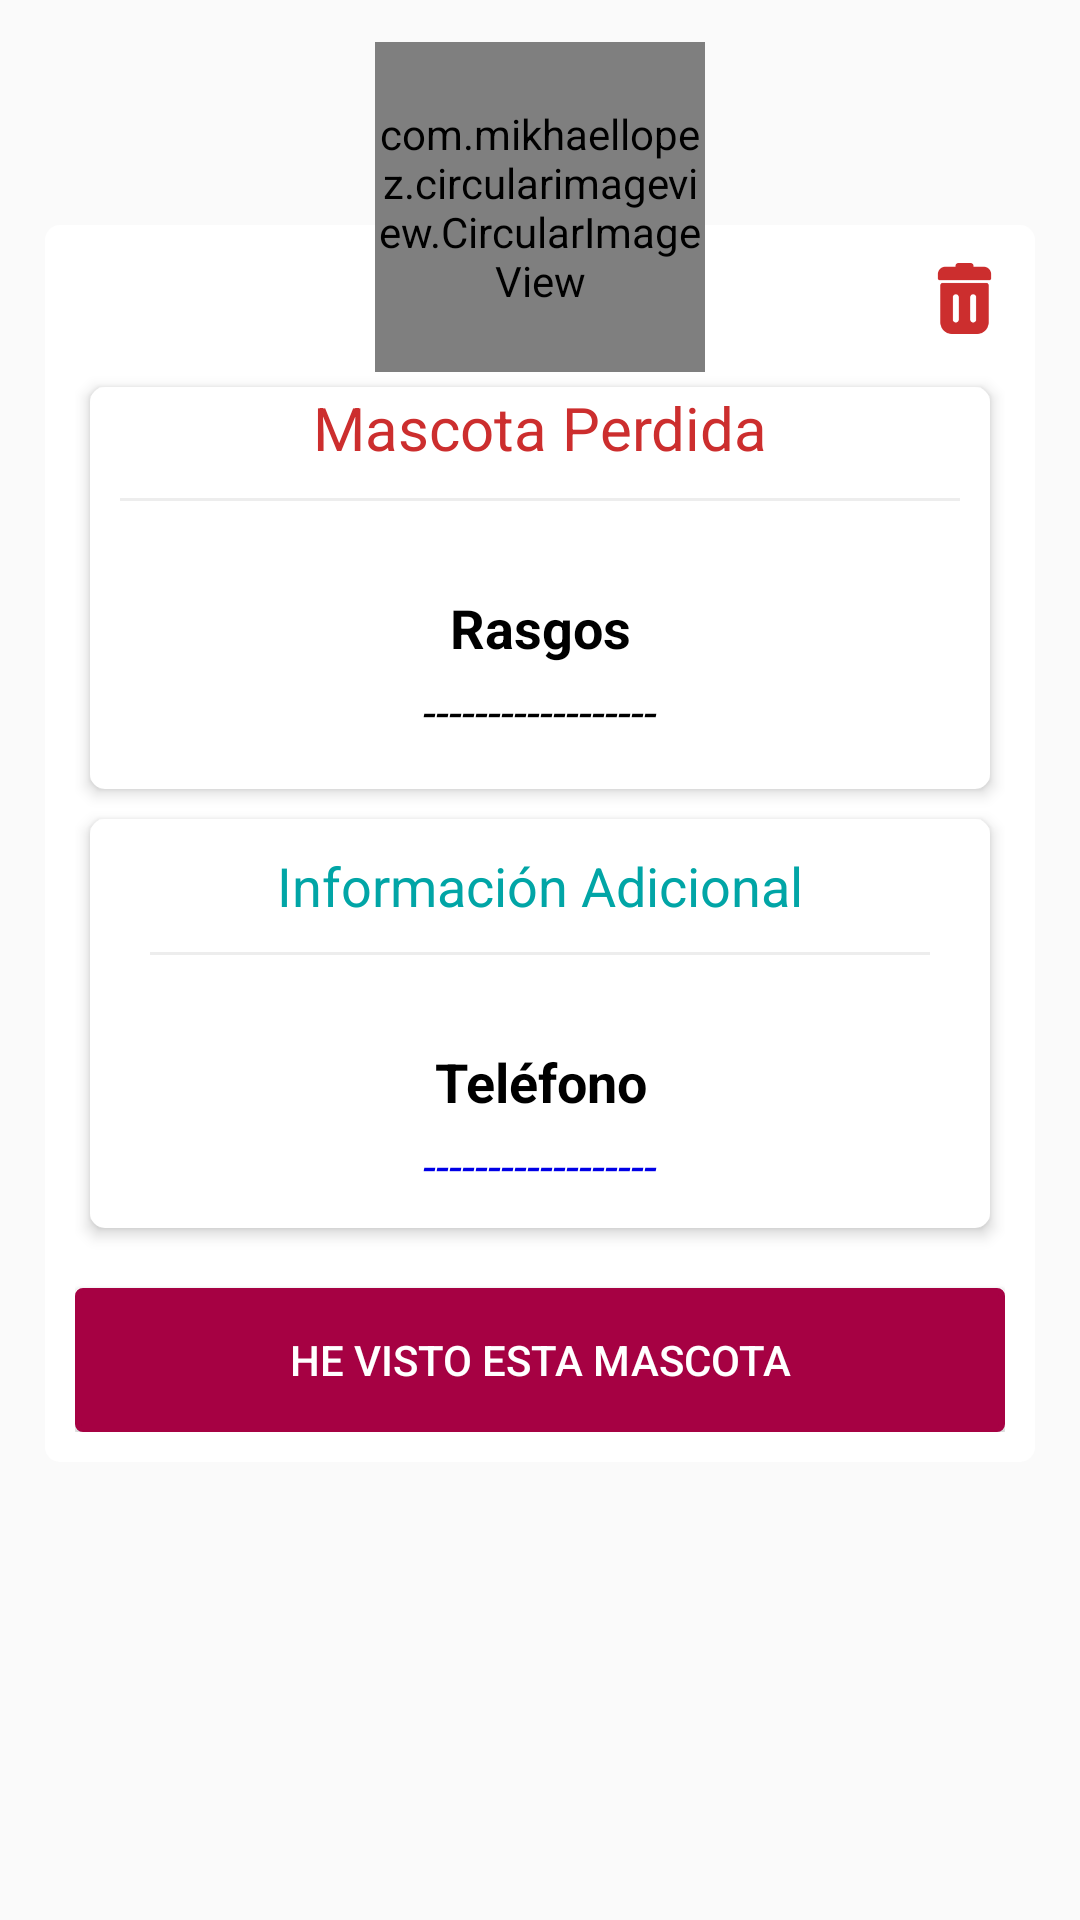

Named icons in this screenshot (1080w x 1920h) and their centers, point (x, y):
papelera: point (964, 298)
